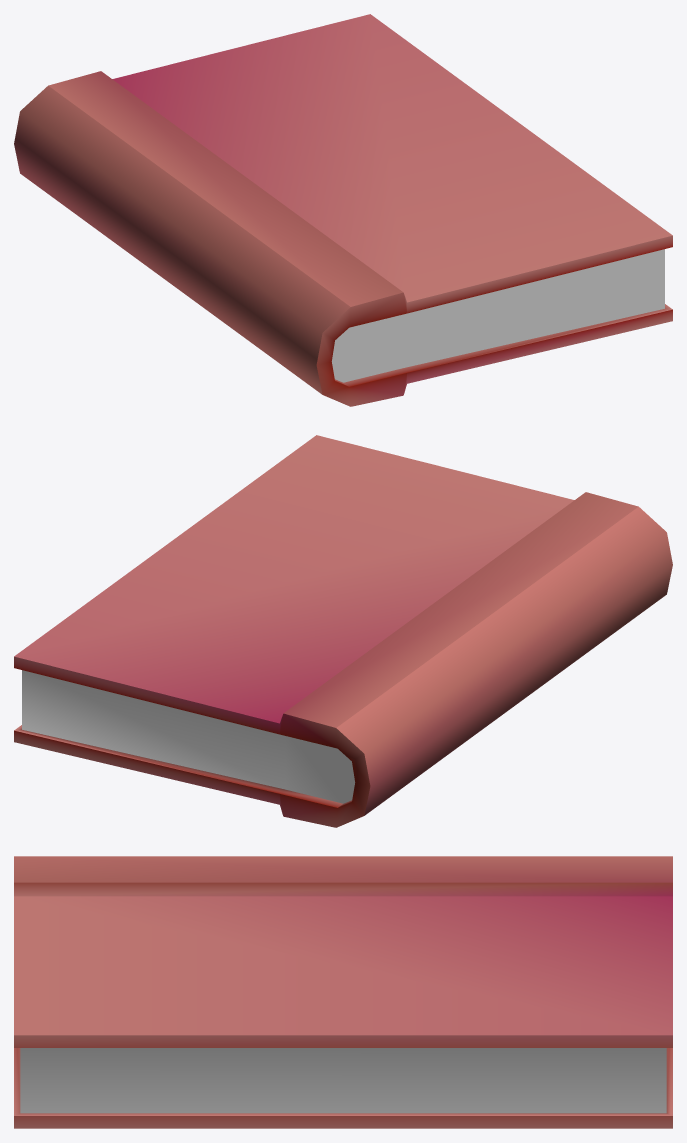
Rendered from Book_1.glb.
3 views of the same model, one above another, from view 1: azimuth 30°, elevation 25°; view 2: azimuth 150°, elevation 25°; view 3: azimuth 270°, elevation 25° (orthographic). The views are drawn at different scales.
Visible parts, largest first — view 1: Book; view 2: Book; view 3: Book.
Part boxes in pixels (left/top/right/bottom): Book: left=14, top=14, right=672, bottom=406; Book: left=14, top=435, right=672, bottom=827; Book: left=14, top=856, right=672, bottom=1128.
Bounding box in the file's own units: 0.2974 × 0.0823 × 0.4372.
